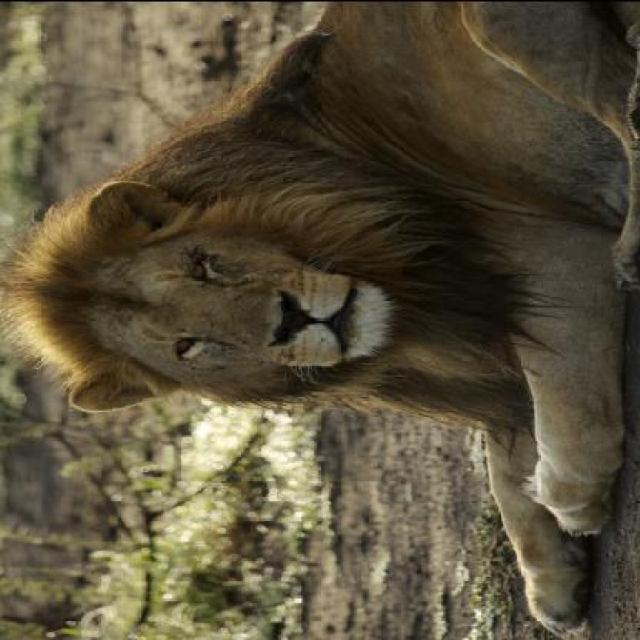Lion: (19, 2, 638, 629)
